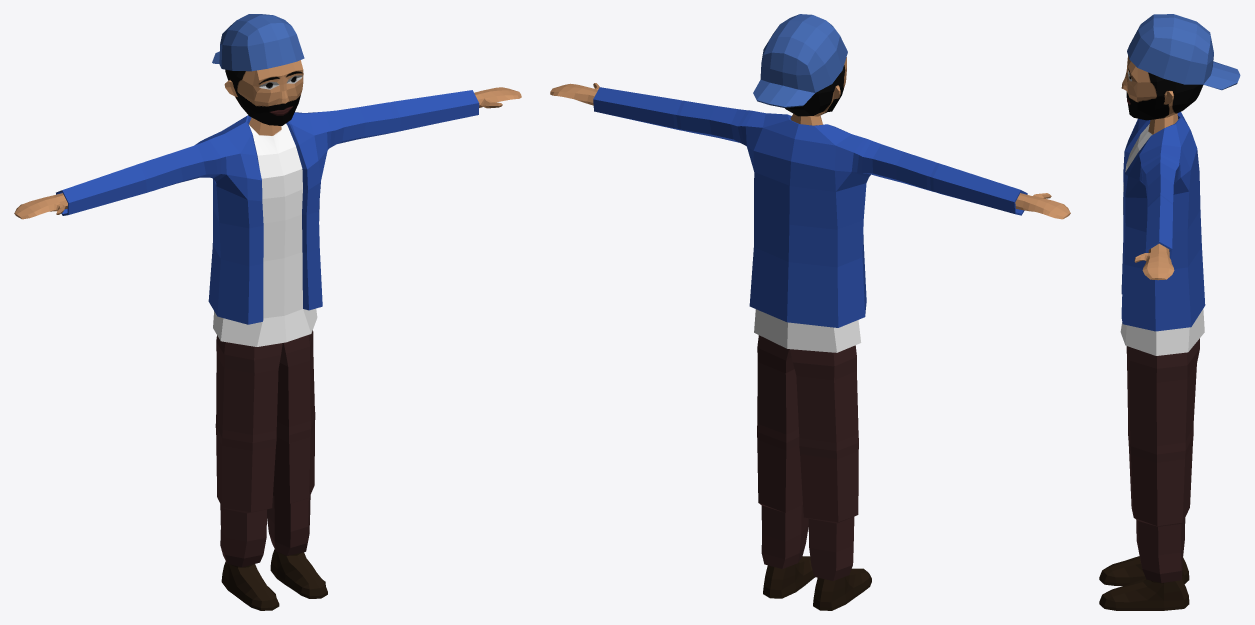
File: delh_char_03.fbx
3 views of the same model, side by side, from view 1: azimuth 30°, elevation 25°; view 2: azimuth 150°, elevation 25°; view 3: azimuth 270°, elevation 25° (orthographic). The views are drawn at different scales.
Visible parts, largest first — view 1: delh_char_03; view 2: delh_char_03; view 3: delh_char_03.
Boxes of the visible parts, x1=… form: delh_char_03: x1=14, y1=14, x2=521, y2=610; delh_char_03: x1=550, y1=14, x2=1070, y2=610; delh_char_03: x1=1099, y1=14, x2=1240, y2=610.
Size of the model in its own units: 171 by 183 by 40.64.
